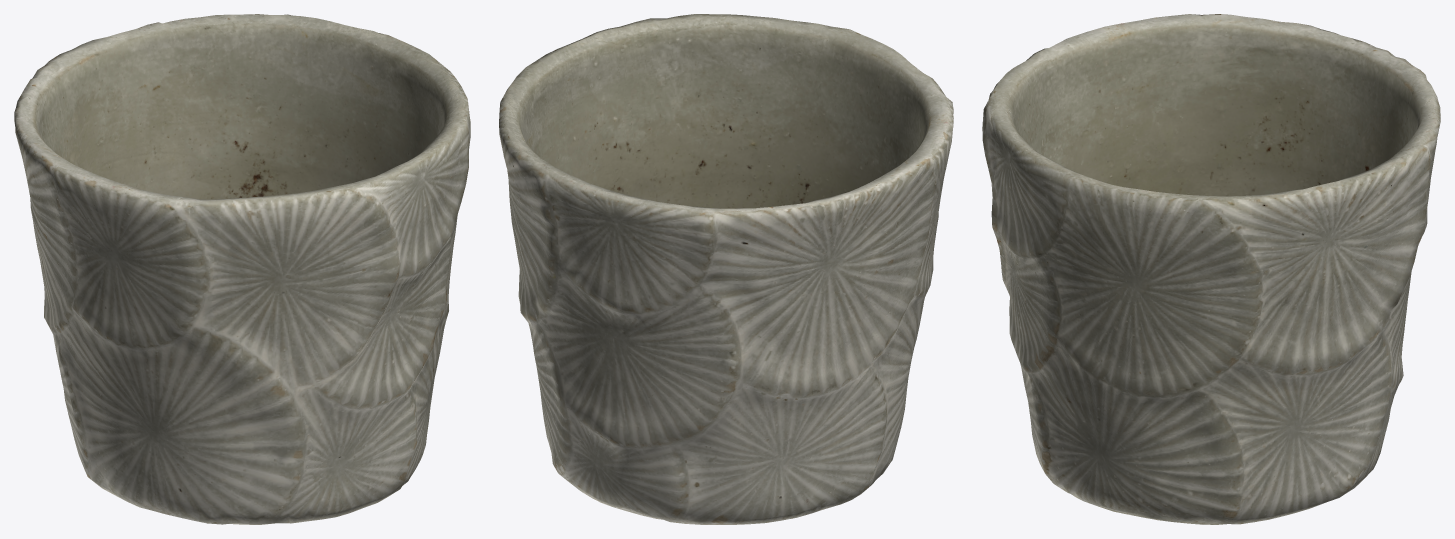
3 views of the same model, side by side, from view 1: azimuth 30°, elevation 25°; view 2: azimuth 150°, elevation 25°; view 3: azimuth 270°, elevation 25° (orthographic).
Parts seen in each view (by area): view 1: Aset_clay_pot_S_ueilahthw_LOD0; view 2: Aset_clay_pot_S_ueilahthw_LOD0; view 3: Aset_clay_pot_S_ueilahthw_LOD0.
Part boxes in pixels (left/top/right/bottom): Aset_clay_pot_S_ueilahthw_LOD0: left=14, top=14, right=470, bottom=524; Aset_clay_pot_S_ueilahthw_LOD0: left=499, top=14, right=953, bottom=524; Aset_clay_pot_S_ueilahthw_LOD0: left=982, top=14, right=1440, bottom=524.
Size of the model in its own units: 0.0431 by 0.043 by 0.0367.
Materials: 1 (1 with a texture image).
